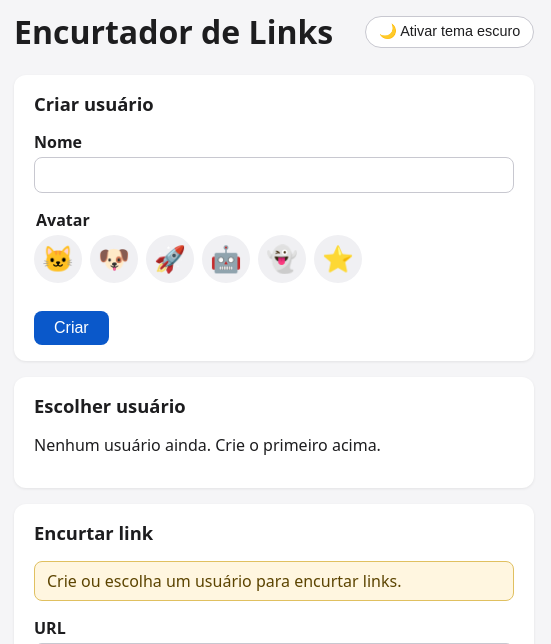
Test: App — criar e escolher usuário › mostra a mensagem { error } vinda da camada de API
This screenshot has width=551, height=644.
Type "Eva" into the field labelled "Nome".
click(274, 175); type("Eva")  # box [34,157,514,193]
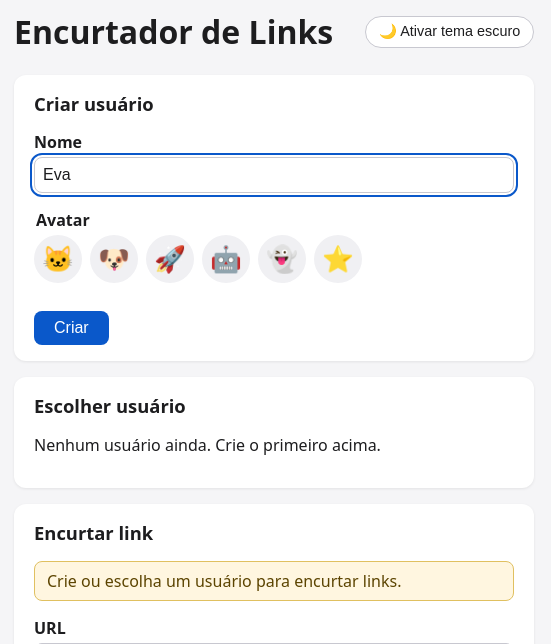
Click the button "Criar".
click(71, 328)  # box [34,311,109,345]
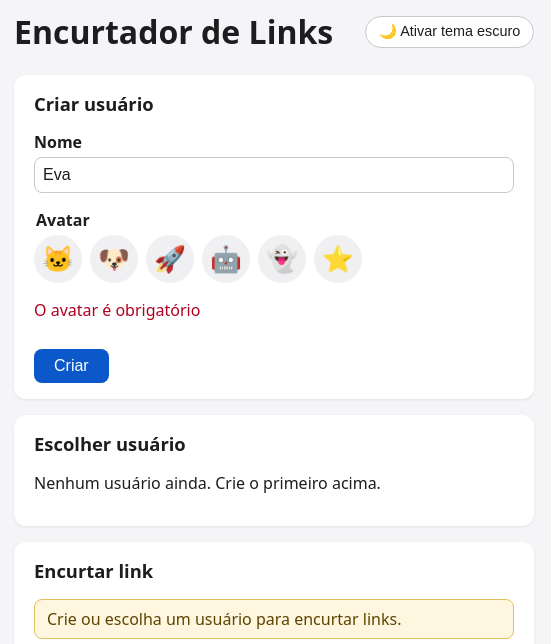
Expected: the message reads "O avatar é obrigatório", [34,299,200,321]
